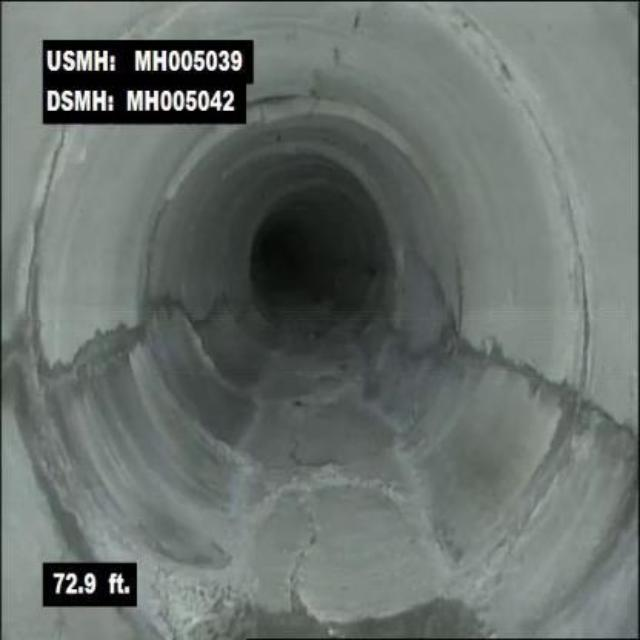Crack: (520, 365, 632, 438), (43, 317, 143, 386), (280, 482, 323, 628), (329, 8, 368, 72)
